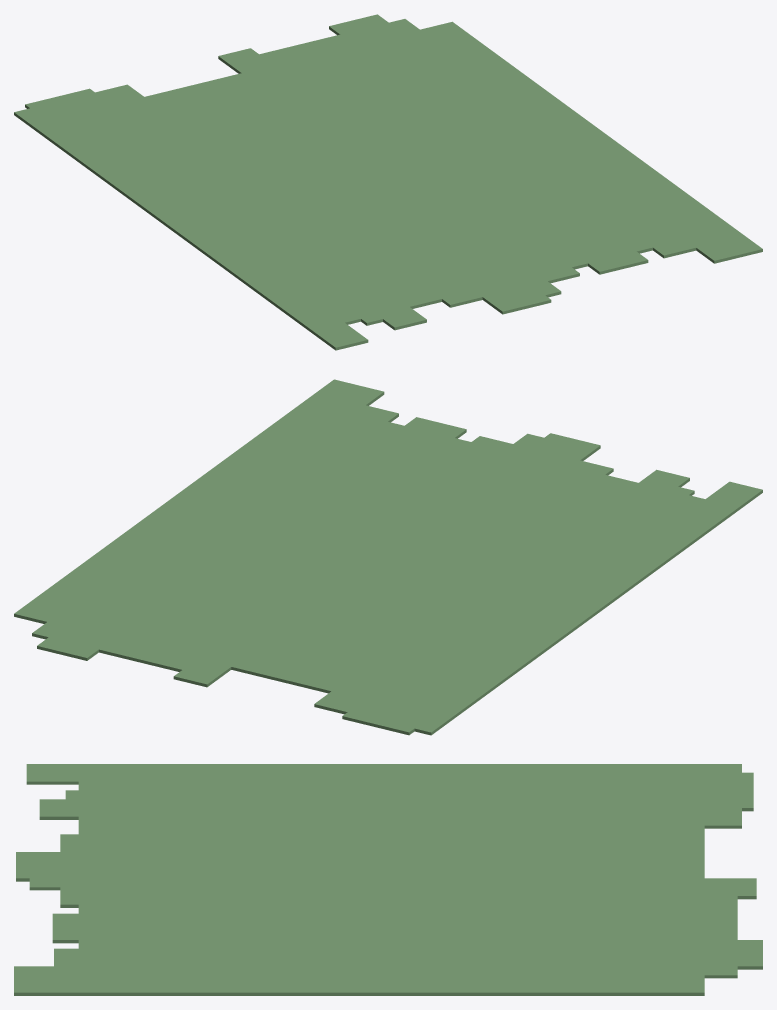
File: woodenfloor2_lp.fbx
The picture shows the model from 3 angles, top to bottom: view 1: azimuth 30°, elevation 25°; view 2: azimuth 150°, elevation 25°; view 3: azimuth 270°, elevation 25°; orthographic projection. The views are drawn at different scales.
Visible parts, largest first — view 1: woodenfloor2_LP; view 2: woodenfloor2_LP; view 3: woodenfloor2_LP.
Part boxes in pixels (x1,y1,x2,y2): woodenfloor2_LP: (14,14,762,350); woodenfloor2_LP: (14,379,762,735); woodenfloor2_LP: (14,764,762,995).
Size of the model in its own units: 839 by 5.5 by 1161.
